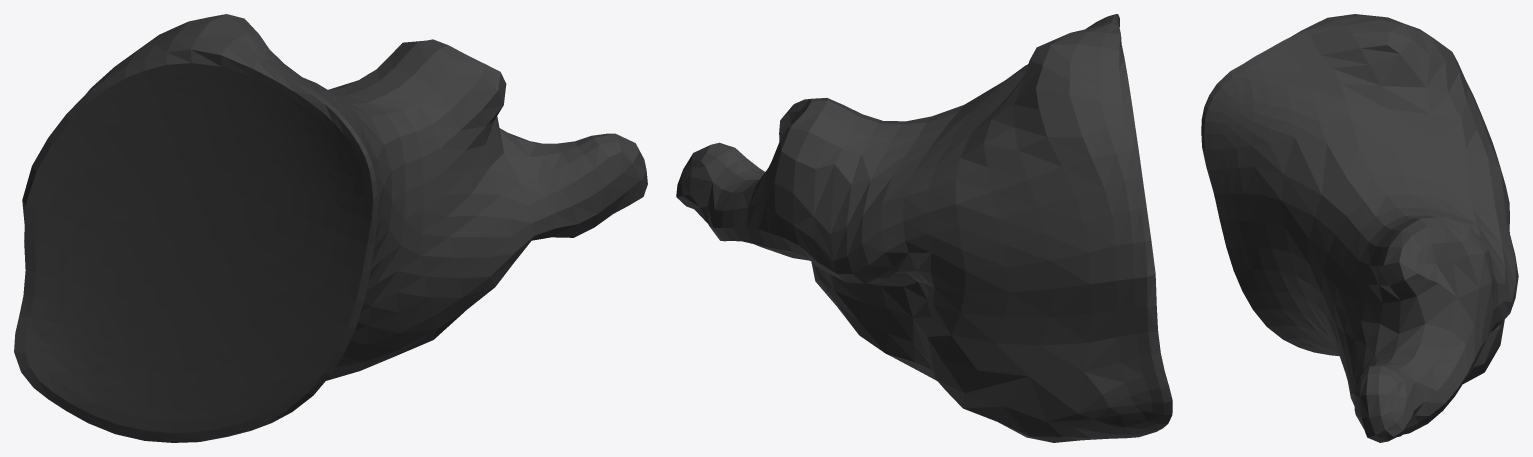
The model's file is L_AURICLE.glb.
3 views of the same model, side by side, from view 1: azimuth 30°, elevation 25°; view 2: azimuth 150°, elevation 25°; view 3: azimuth 270°, elevation 25° (orthographic). The views are drawn at different scales.
Parts seen in each view (by area): view 1: L_AURICLE; view 2: L_AURICLE; view 3: L_AURICLE.
Boxes of the visible parts, left/top/right/bottom form: L_AURICLE: left=14, top=14, right=647, bottom=442; L_AURICLE: left=676, top=14, right=1172, bottom=442; L_AURICLE: left=1201, top=14, right=1518, bottom=442.
Bounding box in the file's own units: 3.58 × 2.36 × 1.93.
Materials: 1 (1 with a texture image).
